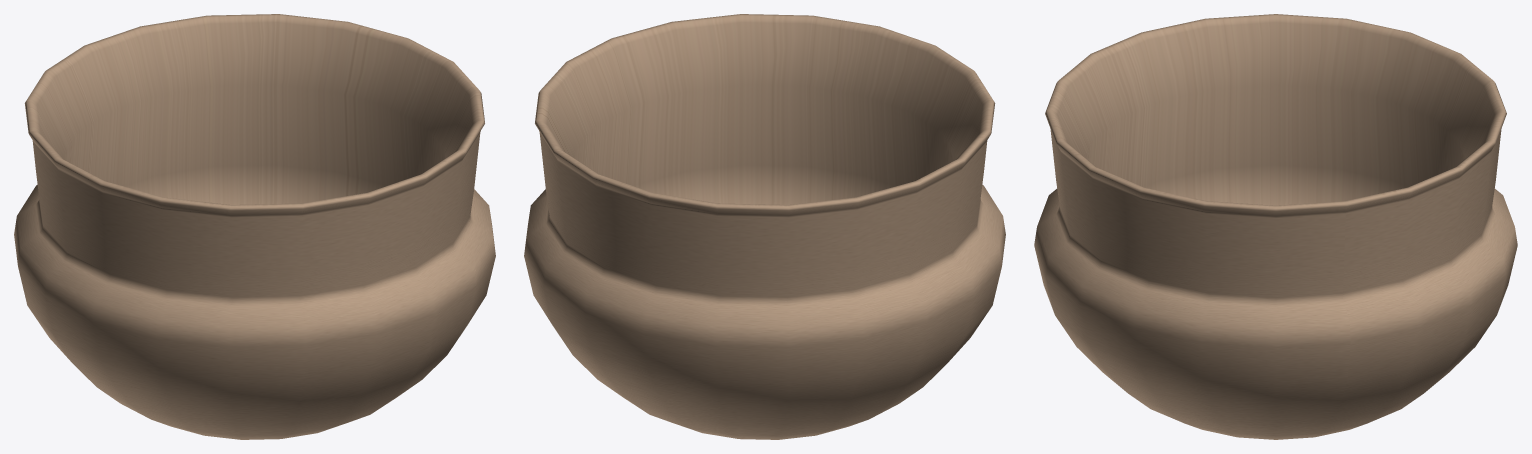
File: PM_SmallBowl01.fbx
3 renders of one model, left to right at view 1: azimuth 30°, elevation 25°; view 2: azimuth 150°, elevation 25°; view 3: azimuth 270°, elevation 25°, orthographic.
Visible parts, largest first — view 1: Modl_Bowl_Type_2; view 2: Modl_Bowl_Type_2; view 3: Modl_Bowl_Type_2.
Part boxes in pixels (bbox=[...]): Modl_Bowl_Type_2: bbox=[14, 14, 495, 439]; Modl_Bowl_Type_2: bbox=[524, 14, 1005, 439]; Modl_Bowl_Type_2: bbox=[1034, 14, 1517, 439].
Bounding box in the file's own units: 68.15 × 43.85 × 68.15.
Materials: 1 (1 with a texture image).
